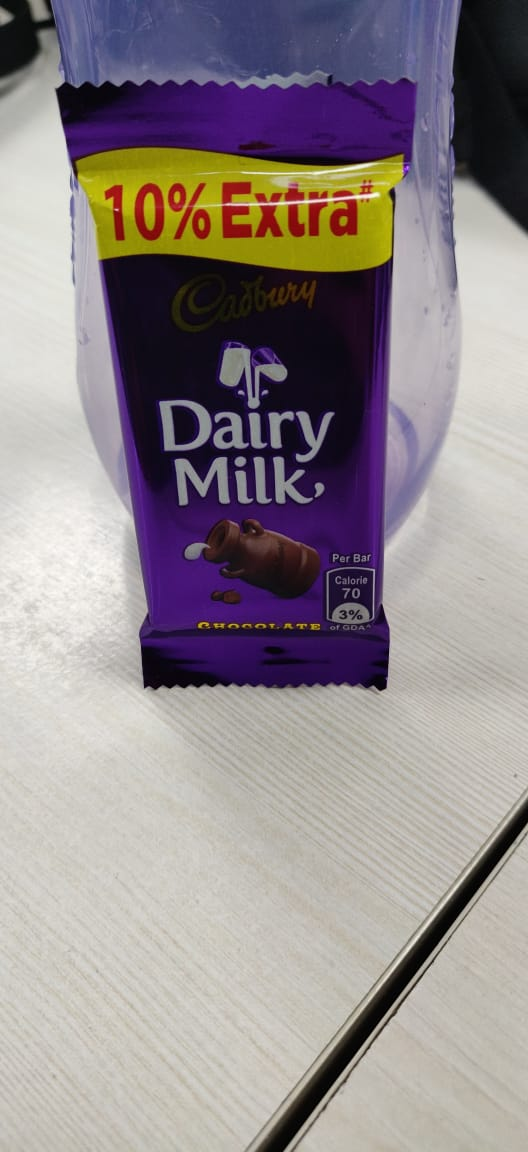dairy milk: (47, 67, 429, 713)
